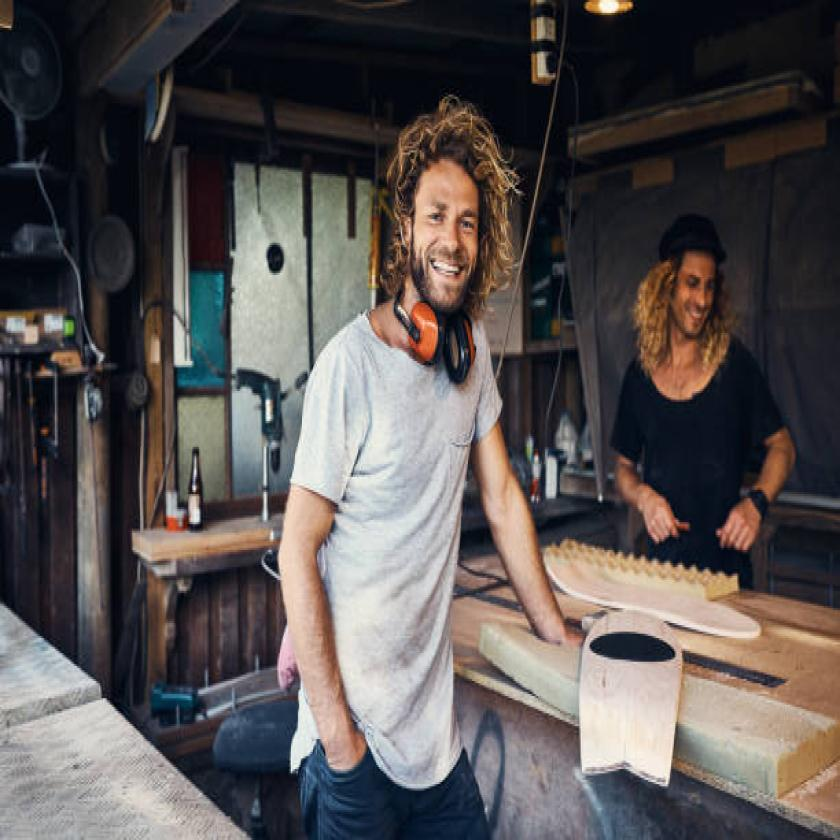Sin_casco: (370, 81, 521, 367), (643, 201, 736, 365)
